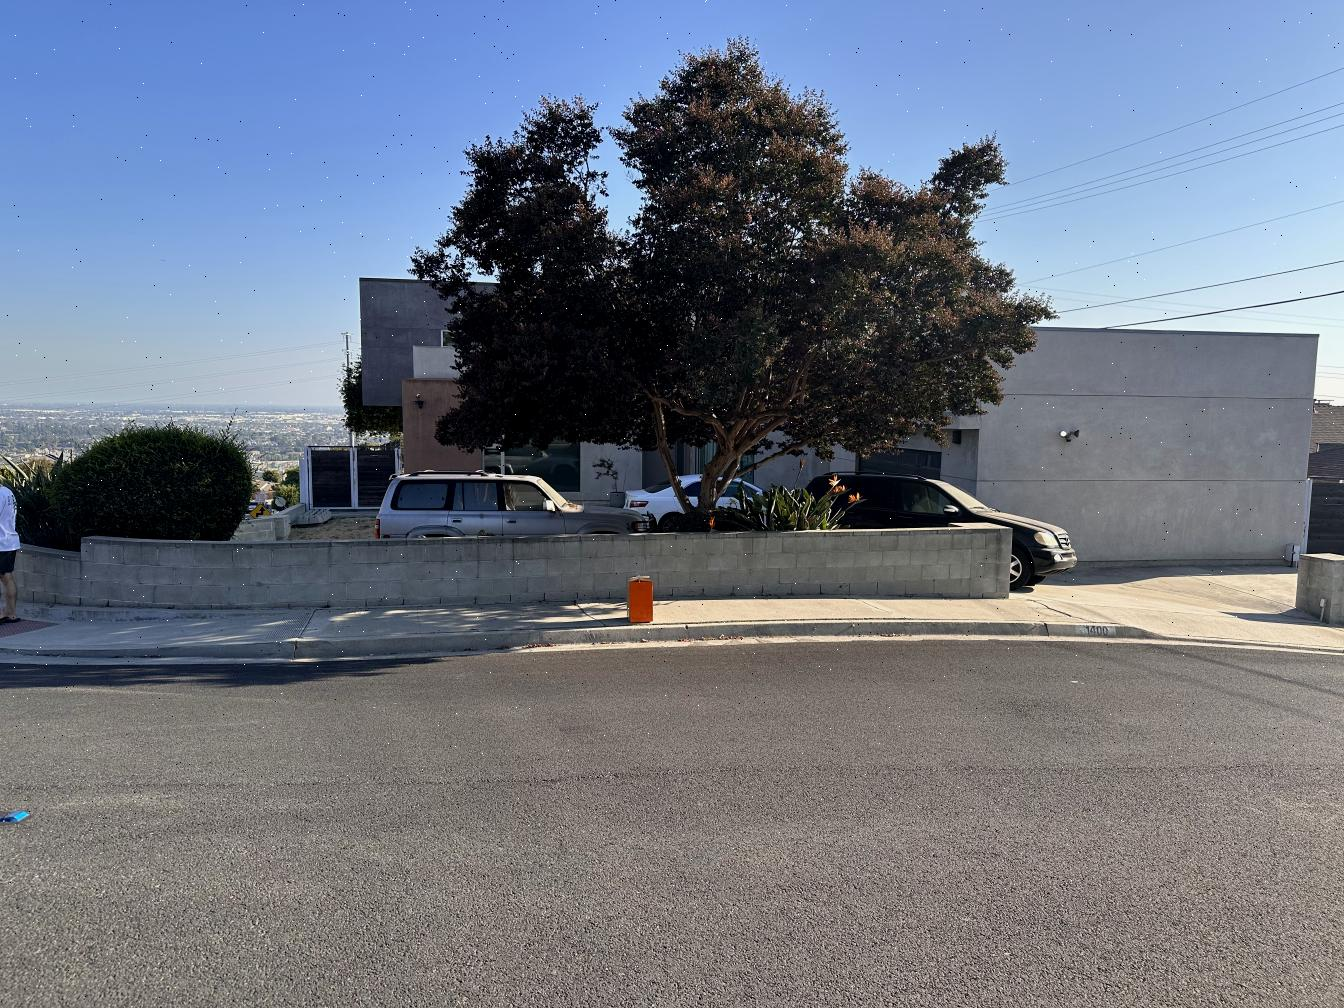curbs-laRr: (297, 623, 626, 663), (660, 619, 1123, 642)
orange box: (629, 579, 654, 624)
